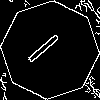I: (25, 25, 69, 66)
